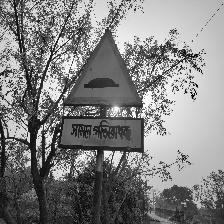Speed-breaker: (60, 29, 144, 153)
